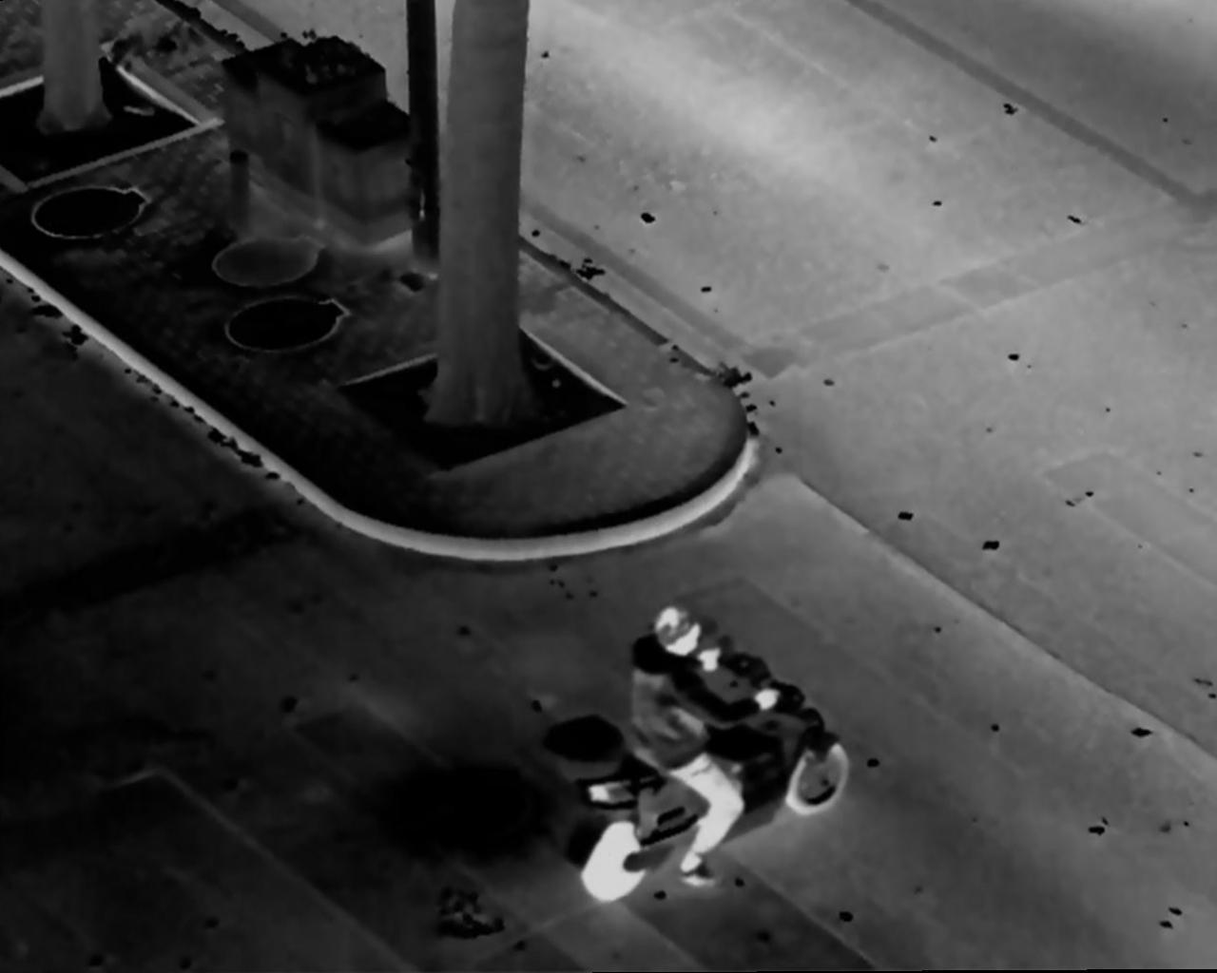person: (626, 593, 779, 894)
